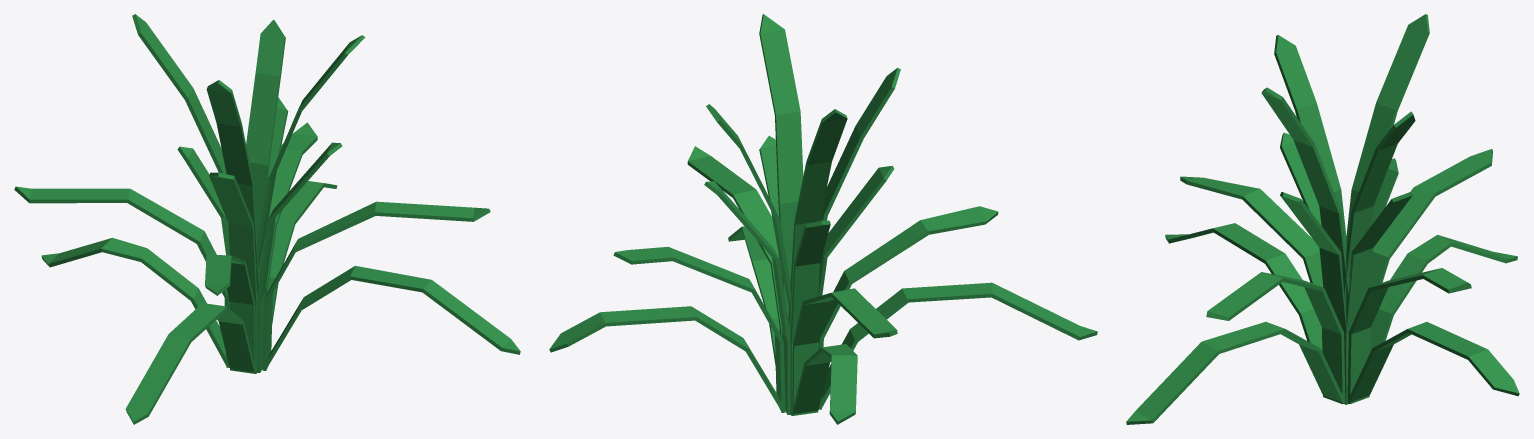
File: spiky-plant.glb
3 renders of one model, left to right at view 1: azimuth 30°, elevation 25°; view 2: azimuth 150°, elevation 25°; view 3: azimuth 270°, elevation 25°, orthographic.
Parts seen in each view (by area): view 1: Plant_3; view 2: Plant_3; view 3: Plant_3.
Boxes of the visible parts, x1,y1,x2,y2 form: Plant_3: (14,14,520,424); Plant_3: (549,14,1097,424); Plant_3: (1126,14,1519,424).
Size of the model in its own units: 1.63 by 1.42 by 1.46.
